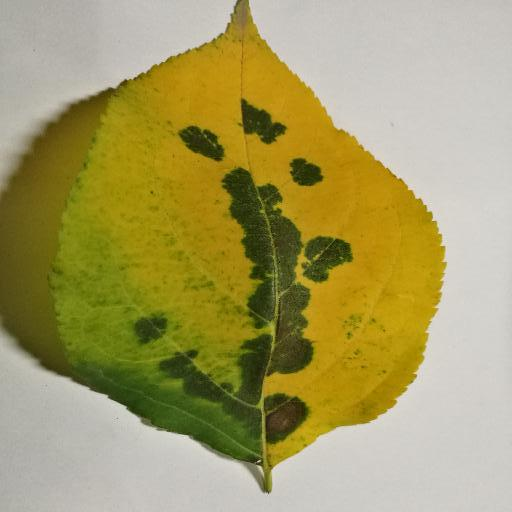Brown_Spot: (256, 387, 309, 444), (276, 334, 311, 380)
